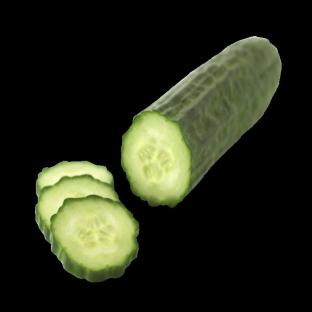Cucumber: (122, 38, 281, 206), (51, 195, 138, 281), (36, 175, 118, 241), (36, 161, 113, 195)
